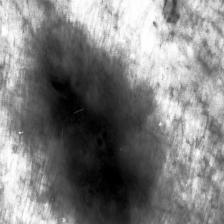Benign Marking or Mole: (34, 23, 162, 224)
